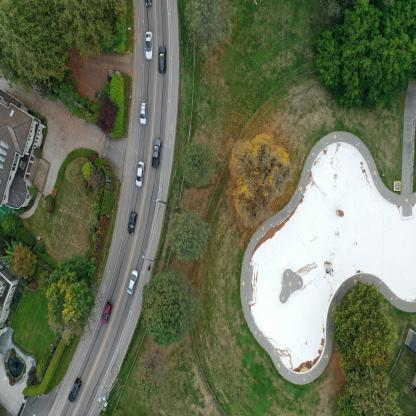Coniferous Tree: (0, 0, 64, 88), (228, 134, 290, 214), (141, 270, 200, 341), (63, 0, 117, 50), (345, 372, 399, 416), (185, 0, 231, 47), (181, 135, 217, 190), (168, 209, 210, 256)
Deciduous Tree: (317, 0, 416, 108), (338, 276, 392, 362), (47, 277, 85, 329), (98, 101, 118, 130)
